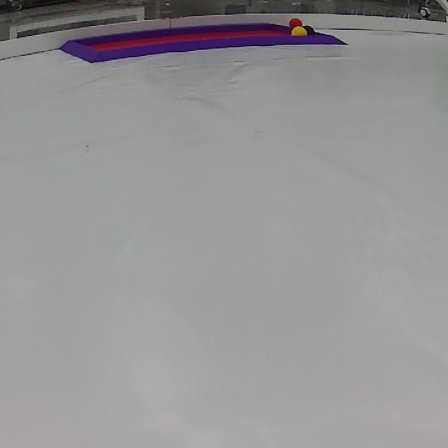black: (303, 24, 315, 33)
red: (286, 18, 301, 26)
red_aim: (60, 22, 352, 64)
yellow: (290, 28, 307, 36)
